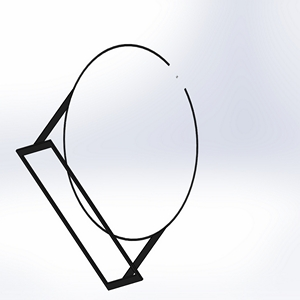circle: (14, 40, 200, 293)
